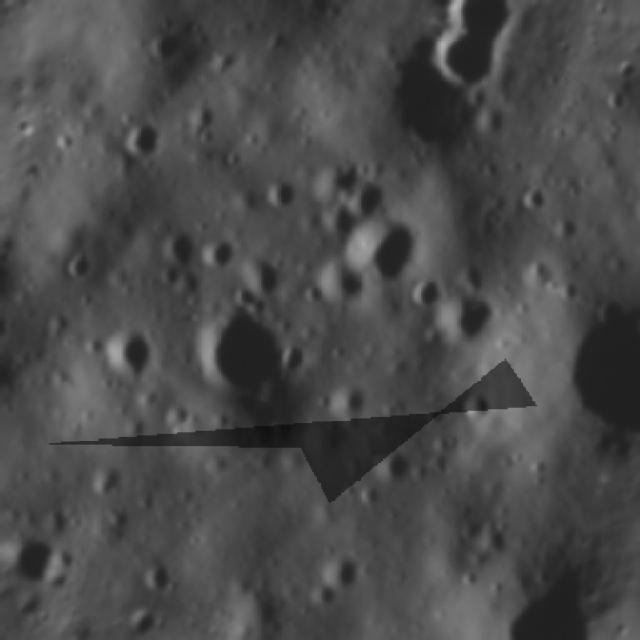crater: (541, 270, 640, 444), (458, 521, 581, 640), (188, 294, 302, 408), (338, 205, 428, 292), (419, 22, 515, 102), (431, 280, 514, 362), (91, 311, 166, 387), (363, 439, 426, 503), (147, 212, 207, 276), (109, 108, 174, 166), (139, 14, 198, 75), (308, 143, 372, 199), (233, 246, 290, 308), (315, 546, 377, 602), (348, 174, 410, 229), (323, 370, 380, 428), (252, 164, 308, 222), (197, 226, 252, 283), (57, 235, 106, 288), (132, 554, 183, 604), (515, 171, 562, 218), (81, 454, 128, 500), (456, 384, 499, 427), (0, 302, 20, 344), (627, 182, 640, 231)
